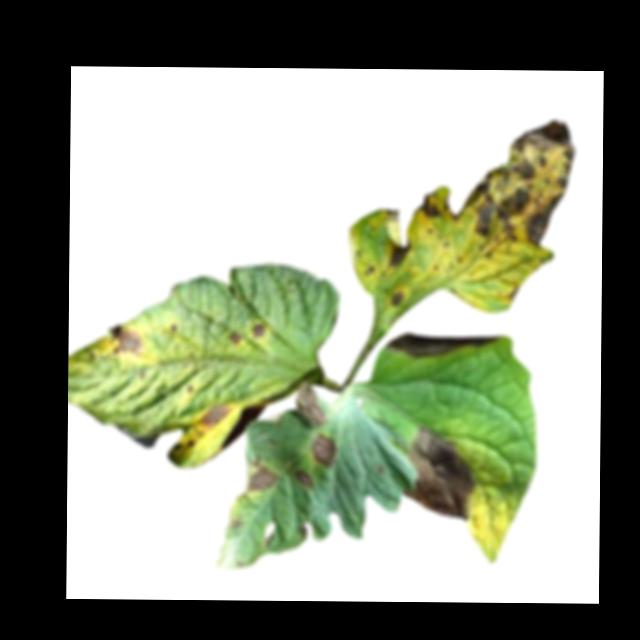Early_blight: (454, 116, 576, 253), (401, 428, 477, 521), (383, 328, 501, 358), (295, 384, 327, 427), (109, 326, 145, 360), (245, 457, 277, 492), (200, 401, 232, 429), (311, 434, 337, 468), (385, 238, 411, 269), (417, 192, 441, 218), (295, 469, 313, 491), (389, 290, 406, 307), (250, 326, 265, 340), (361, 264, 375, 277), (226, 333, 240, 346)
